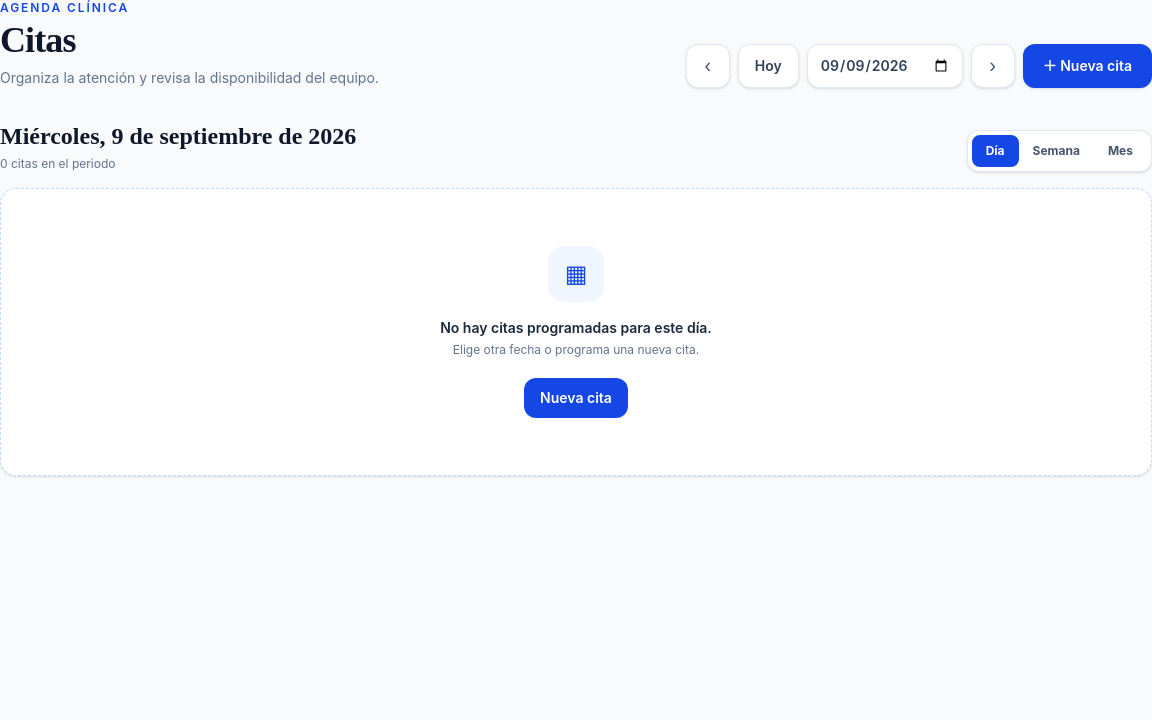
AppointmentsPage › [HU-52] exposes quick-create in the real agenda only with patients.create
Expected: the text "No hay citas programadas para este día." is shown, left=440, top=318, right=712, bottom=338
Click the button "＋ Nueva cita". click: (1087, 66)
box: left=1023, top=44, right=1151, bottom=88
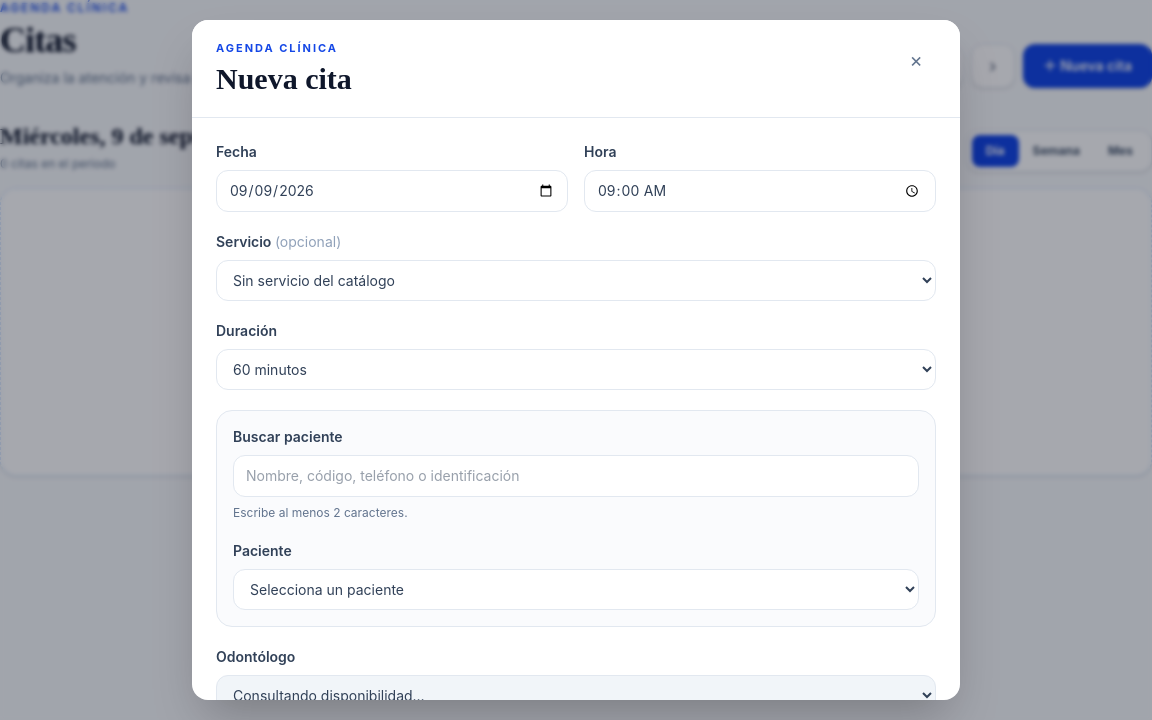
Type "Sin resultado" into the search field labelled "Buscar paciente". click: (576, 476)
box: left=233, top=455, right=919, bottom=497
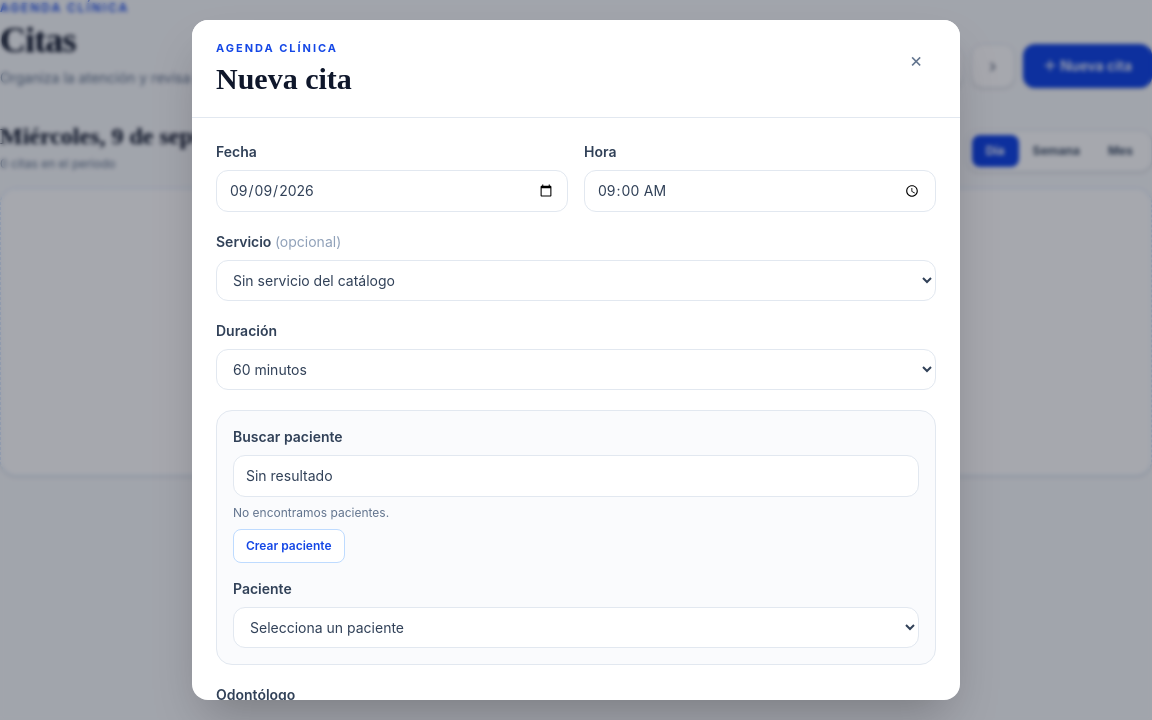
Expected: the button "Crear paciente" is shown, left=233, top=529, right=344, bottom=563
